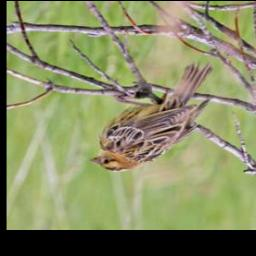Sparrow: (88, 60, 215, 173)
